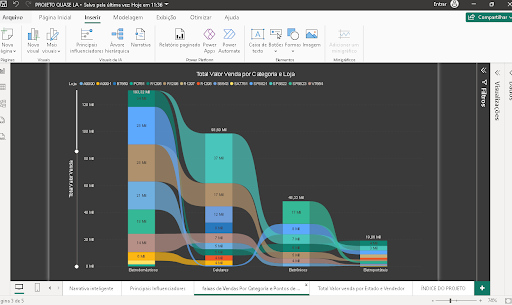

The page's visual inventory and layout, read from the dashboard file:
{"tool":"powerbi","page":{"name":"faixas de Vendas  Por Categoria e Pontos de Vendas","canvas":[1280,720],"ordinal":3},"visuals":[{"type":"ribbonChart","fields":{"Category":["Vendas.Categoria"],"Y":["Sum(Vendas.ValorVenda)"],"Series":["Vendas.Loja"]},"box":[57.6,27.3,1175.4,673.4],"z":0}]}

Visuals, with their boxes on the page's 1280x720 design canvas (x1, y1, x2, y2). These are canvas units, not pixel positions in the 512x305 screenshot, which may show the page scaled, cropped or inside an application window:
ribbonChart - Vendas.Categoria x Sum(Vendas.ValorVenda): [x1=58, y1=27, x2=1233, y2=701]
